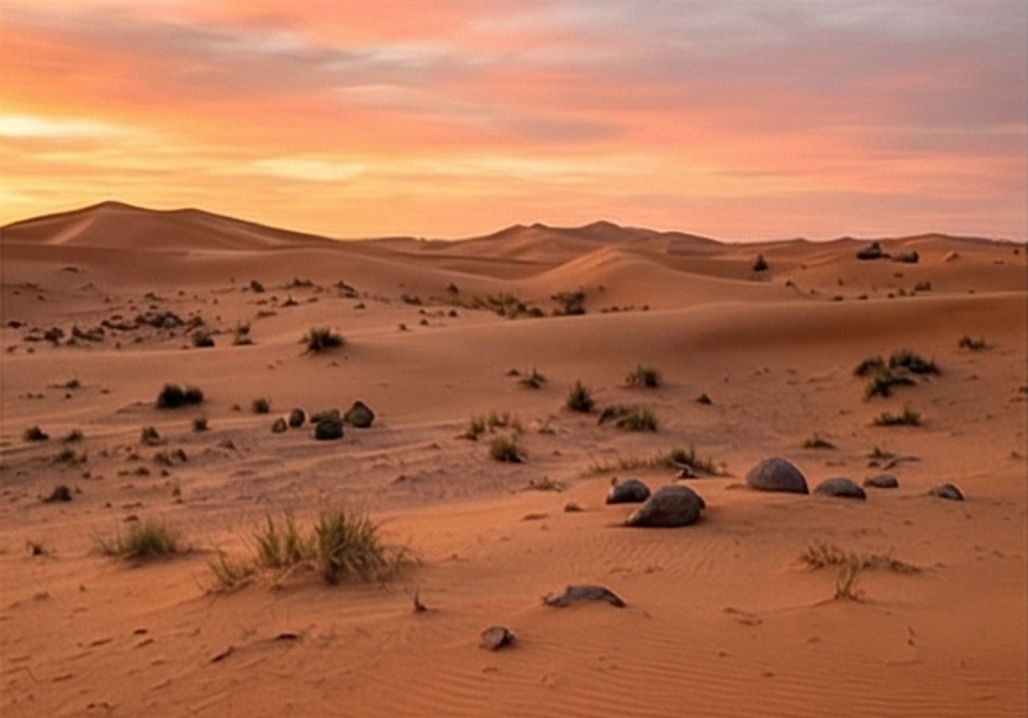rocks: (744, 457, 865, 498), (607, 479, 705, 526)
